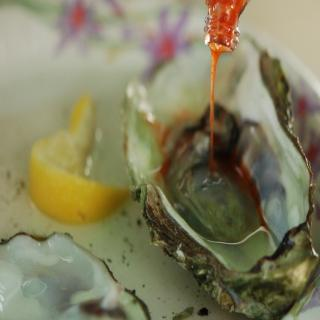Lemon: (26, 91, 130, 225)
